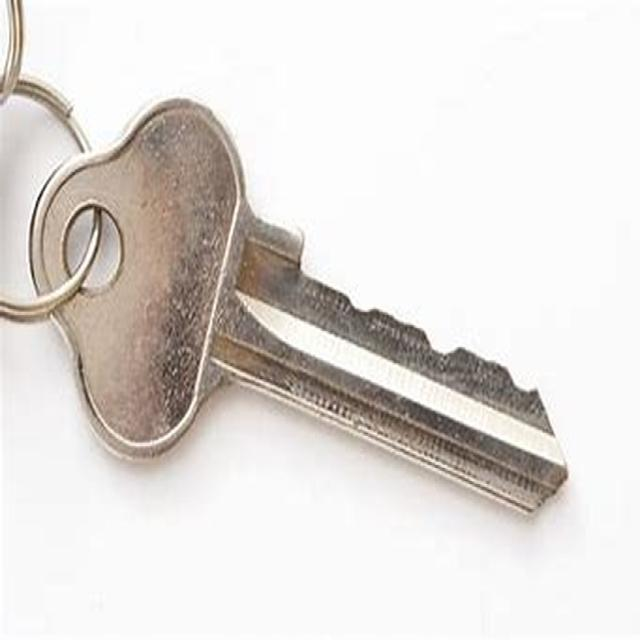key: (26, 59, 596, 589)
